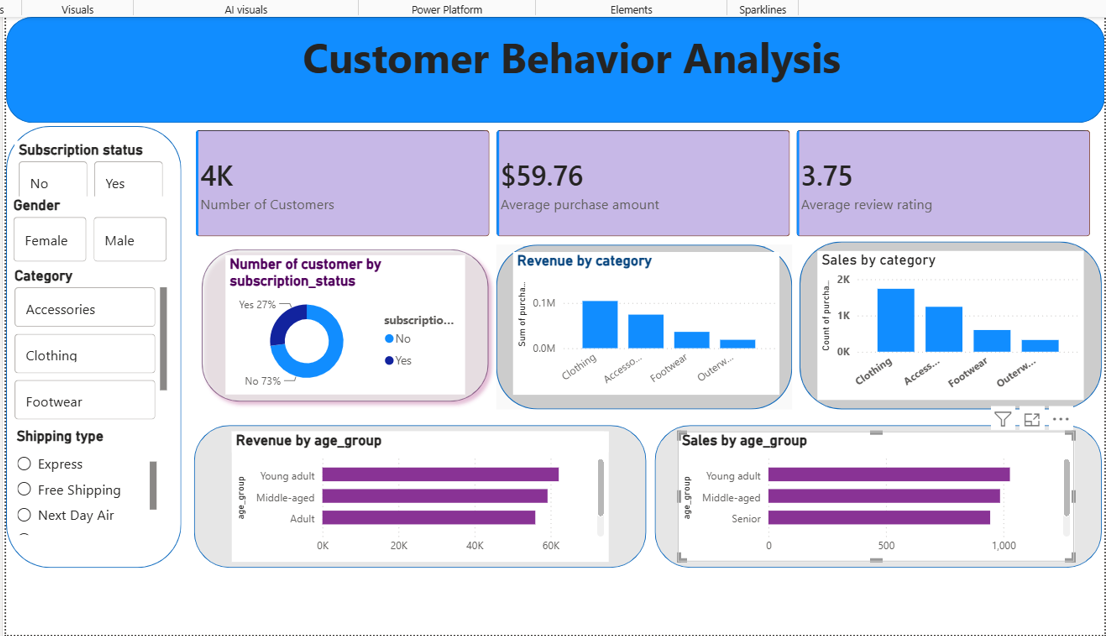

The dashboard page shown, as its layout file describes it:
{"tool":"powerbi","page":{"name":"Page 1","canvas":[1280,720],"ordinal":0},"visuals":[{"type":"cardVisual","fields":{"Data":["mydb customer.Number of Customers","mydb customer.Average purchase amount","mydb customer.Average review rating"]},"box":[204.2,114.9,1076.1,159],"z":0},{"type":"shape","box":[0,0,1280.3,123.5],"z":1000},{"type":"textbox","box":[283.7,8.6,750.8,106.4],"z":2000},{"type":"shape","box":[218.9,261.7,352.2,195.7],"z":3000},{"type":"donutChart","title":"Number of customer by subscription_status","fields":{"Y":["CountNonNull(mydb customer.customer_id)"],"Category":["mydb customer.subscription_status"]},"box":[255.6,277.6,278.8,162.6],"z":4000},{"type":"shape","box":[571.1,265.4,344.8,192],"z":4001},{"type":"shape","box":[924.5,261.7,352.2,195.7],"z":4002},{"type":"clusteredColumnChart","title":"Revenue by category","fields":{"Y":["Sum(mydb customer.purchase_amount_(usd))"],"Category":["mydb customer.category"]},"box":[590.6,273.9,310.6,166.3],"z":4003},{"type":"clusteredColumnChart","title":"Sales by category","fields":{"Category":["mydb customer.category"],"Y":["CountNonNull(mydb customer.purchase_amount_(usd))"]},"box":[945.2,272.7,310.6,173.6],"z":4004},{"type":"shape","box":[218.9,475.7,527,166.3],"z":4005},{"type":"shape","box":[755.7,475.7,520.9,166.3],"z":4006},{"type":"clusteredBarChart","title":"Revenue by age_group","fields":{"Y":["Sum(mydb customer.purchase_amount_(usd))"],"Category":["mydb customer.age_group"]},"box":[262.9,483,439,151.6],"z":4007},{"type":"clusteredBarChart","title":"Sales by age_group","fields":{"Category":["mydb customer.age_group"],"Y":["CountNonNull(mydb customer.purchase_amount_(usd))"]},"box":[782.6,483,462.2,151.6],"z":4008},{"type":"advancedSlicerVisual","fields":{"Values":["mydb customer.subscription_status"]},"box":[7.3,154.1,189.5,172.4],"z":4009},{"type":"shape","box":[0,127.2,204.2,514.8],"z":4010},{"type":"advancedSlicerVisual","title":"Subscription status","fields":{"Values":["mydb customer.subscription_status"]},"box":[9.8,144.3,178.5,75.8],"z":4011},{"type":"advancedSlicerVisual","title":"Gender","fields":{"Values":["mydb customer.gender"]},"box":[3.7,209.1,188.3,81.9],"z":4012},{"type":"advancedSlicerVisual","title":"Category","fields":{"Values":["mydb customer.category"]},"box":[4.9,291,187.1,184.6],"z":4013},{"type":"listSlicer","title":"Shipping type","fields":{"Values":["mydb customer.shipping_type"]},"box":[7.3,478.1,173.6,130.8],"z":4014}]}

Visuals, with their boxes in screenshot pixels (x1, y1, x2, y2):
cardVisual - mydb customer.Number of Customers x mydb customer.Average purchase amount: [174,118,1091,254]
shape: [0,20,1091,125]
textbox: [242,27,882,118]
shape: [187,243,487,410]
"Number of customer by subscription_status" donutChart: [218,257,455,395]
shape: [487,246,780,410]
shape: [788,243,1088,410]
"Revenue by category" clusteredColumnChart: [503,254,768,395]
"Sales by category" clusteredColumnChart: [805,253,1070,400]
shape: [187,426,636,567]
shape: [644,426,1088,567]
"Revenue by age_group" clusteredBarChart: [224,432,598,561]
"Sales by age_group" clusteredBarChart: [667,432,1061,561]
advancedSlicerVisual - mydb customer.subscription_status: [6,151,168,298]
shape: [0,129,174,567]
"Subscription status" advancedSlicerVisual: [8,143,160,208]
"Gender" advancedSlicerVisual: [3,198,164,268]
"Category" advancedSlicerVisual: [4,268,164,425]
"Shipping type" listSlicer: [6,428,154,539]
